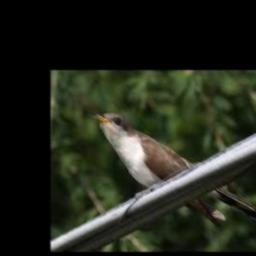Cuckoo: (89, 113, 256, 233)
